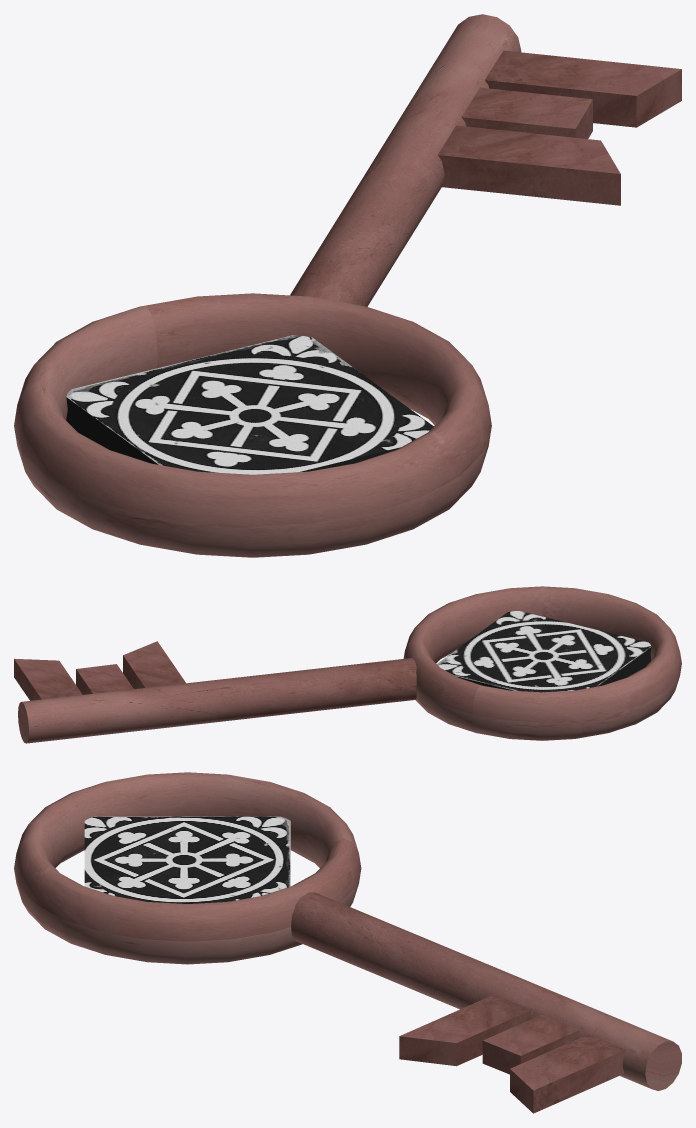
The model's file is ChestKey.FBX.
The picture shows the model from 3 angles, top to bottom: view 1: azimuth 30°, elevation 25°; view 2: azimuth 150°, elevation 25°; view 3: azimuth 270°, elevation 25°; orthographic projection. The views are drawn at different scales.
Parts seen in each view (by area): view 1: ChestKey; view 2: ChestKey; view 3: ChestKey.
Boxes of the visible parts, <box> form: ChestKey: <box>14,14,681,557</box>; ChestKey: <box>14,586,681,743</box>; ChestKey: <box>14,772,681,1113</box>.
Size of the model in its own units: 10.67 by 9.72 by 0.9697.
Materials: 1 (1 with a texture image).
